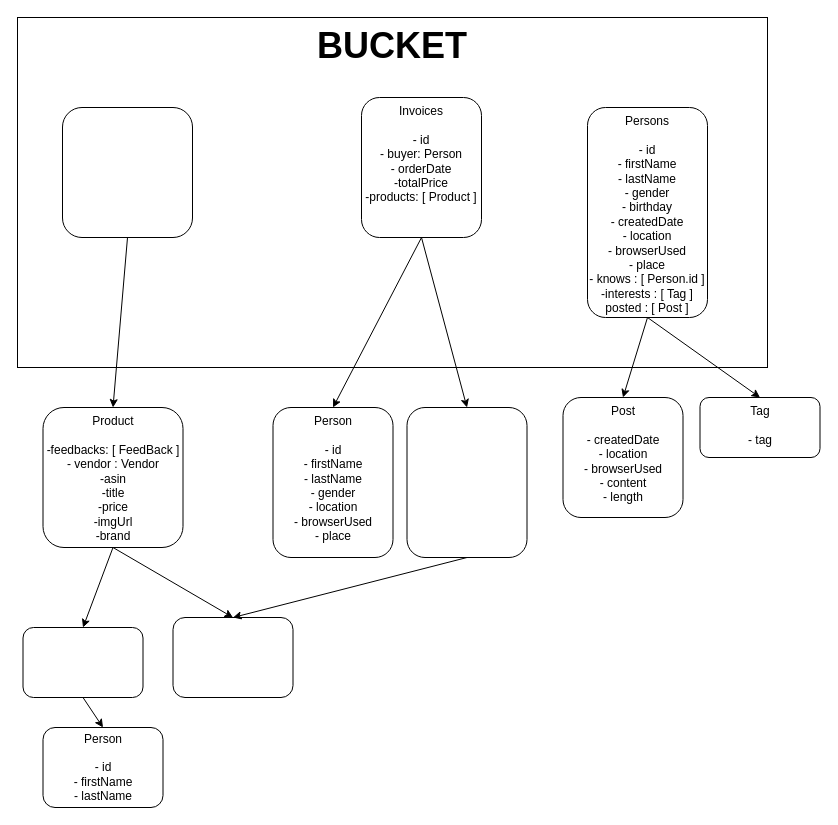
The diagram is 838 pixels wide and 825 high, and some of its shapes have lost their labels. Each missing label, with the centre of its shape:
FeedBack -comment - author : Person: point (82, 662)
Orders - id - buyer: Person.id - orderDate - totalPrice - products: [ Product ]: point (127, 172)
Product - vendor: Vendor - asin - title - price - imgUrl - brand: point (466, 482)
Vendor -country -industry -name: point (232, 657)
